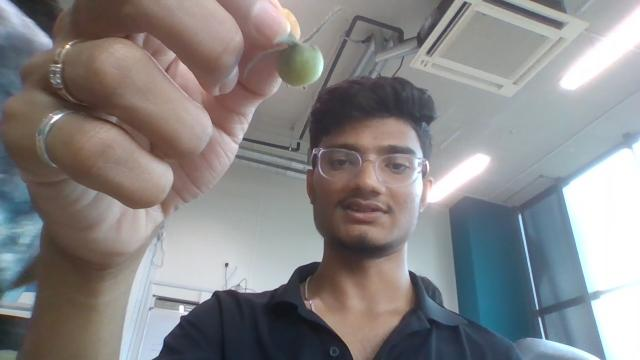Fruit Maturation: (276, 40, 324, 88)
